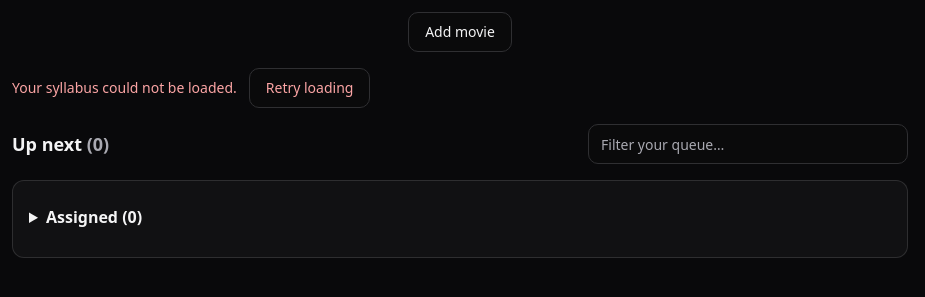
Test: only a failed syllabus load offers a retry
Click the button "Retry loading": x=310, y=88 left=249, top=68, right=370, bottom=108
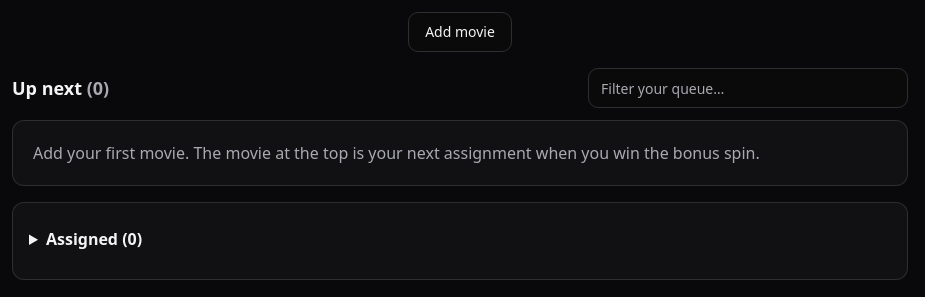
Now the text "Retry loading" is gone
